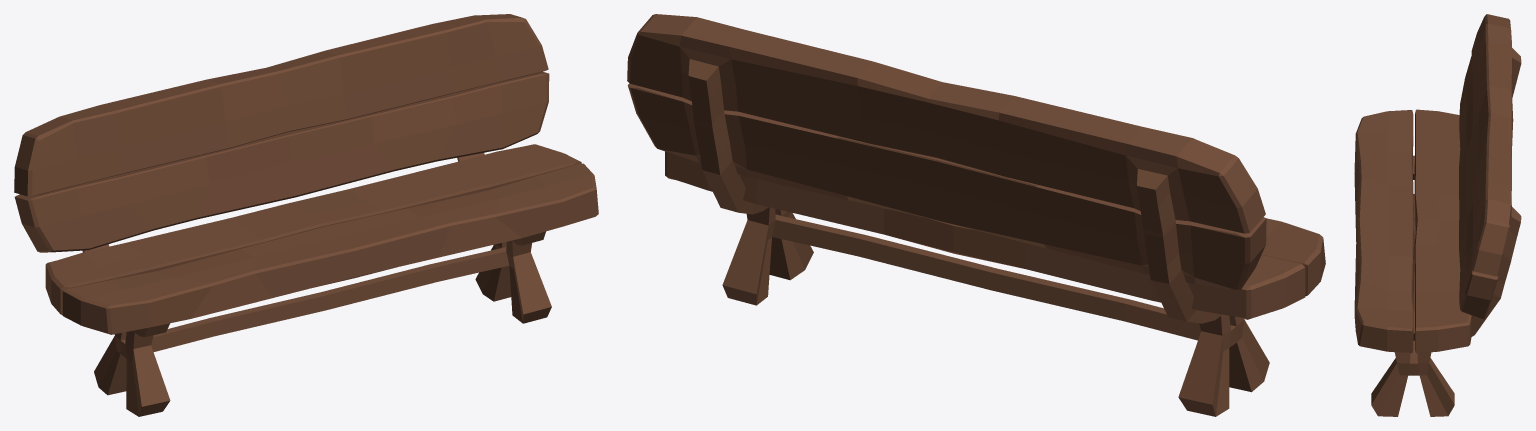
The model's file is WoodenBench_02.fbx.
The picture shows the model from 3 angles, left to right: view 1: azimuth 30°, elevation 25°; view 2: azimuth 150°, elevation 25°; view 3: azimuth 270°, elevation 25°; orthographic projection. The views are drawn at different scales.
Visible parts, largest first — view 1: WoodenBench_02; view 2: WoodenBench_02; view 3: WoodenBench_02.
Part boxes in pixels (box(x1,y1,x2,y2)): WoodenBench_02: box(14, 14, 598, 416); WoodenBench_02: box(627, 14, 1325, 416); WoodenBench_02: box(1354, 14, 1521, 416).
Bounding box in the file's own units: 284 × 131 × 90.5.
Materials: 1 (1 with a texture image).
